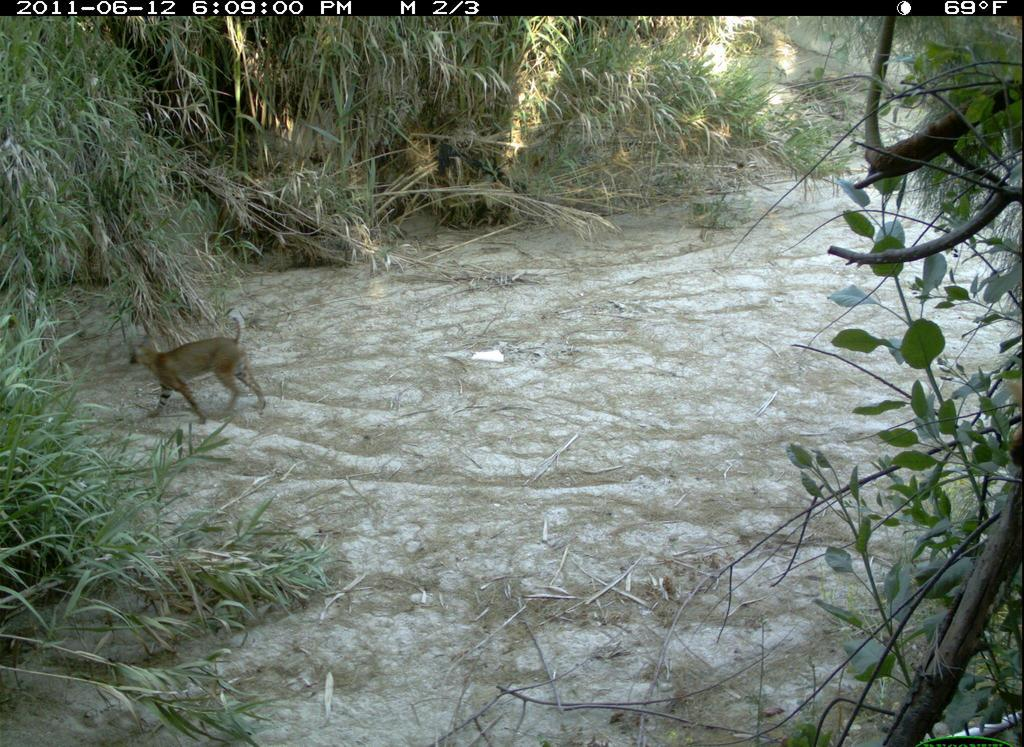bobcat: (122, 306, 277, 429)
